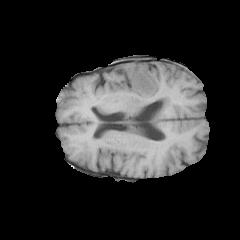glioma: (108, 63, 159, 104)
